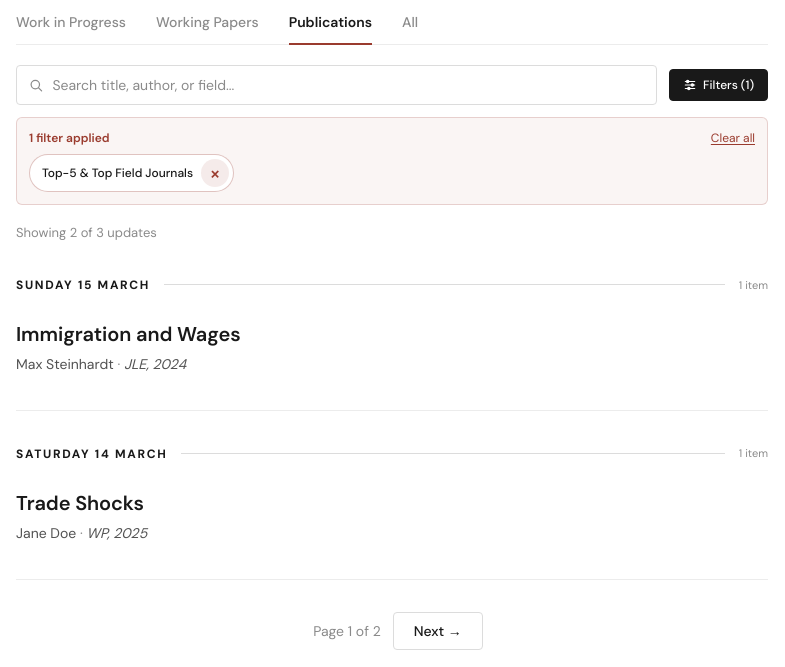
NewsfeedContent › navigates to next page when Next button is clicked
Expected: the link "Immigration and Wages" is shown, [16,321,240,347]
Click the button "Next →" at coordinates (438, 631), box [393,612,483,650]
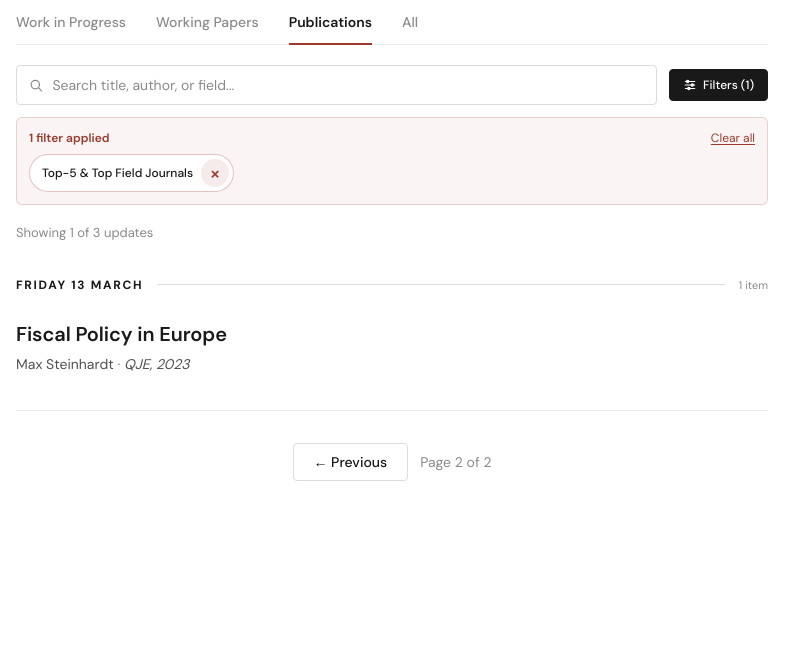
Now the link "Fiscal Policy in Europe" is shown, box [16,321,227,347]
Now the link "Immigration and Wages" is gone
